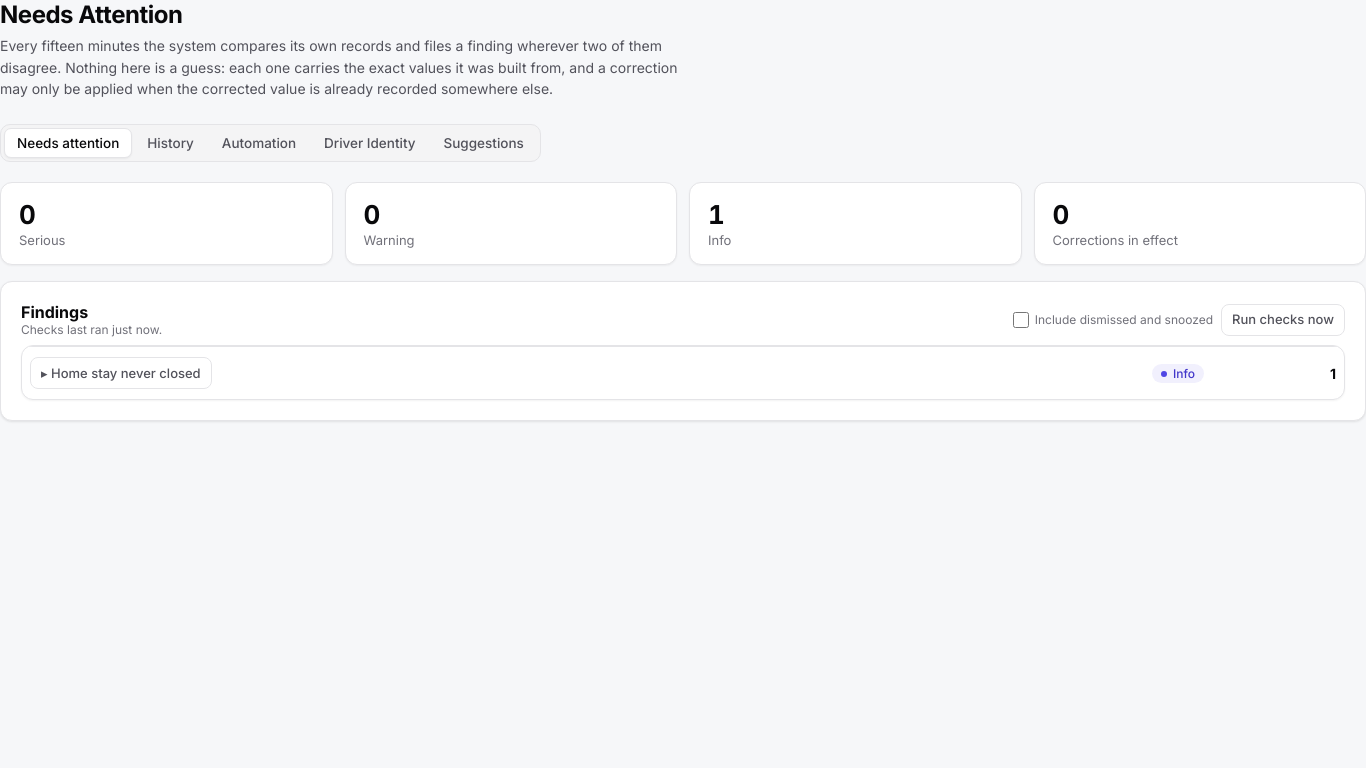
the drawer shows the evidence before the buttons › the proposed change is explicit before and after
This screenshot has width=1366, height=768.
Click the button "▸ Home stay never closed".
click(121, 373)  # box [30,357,212,389]
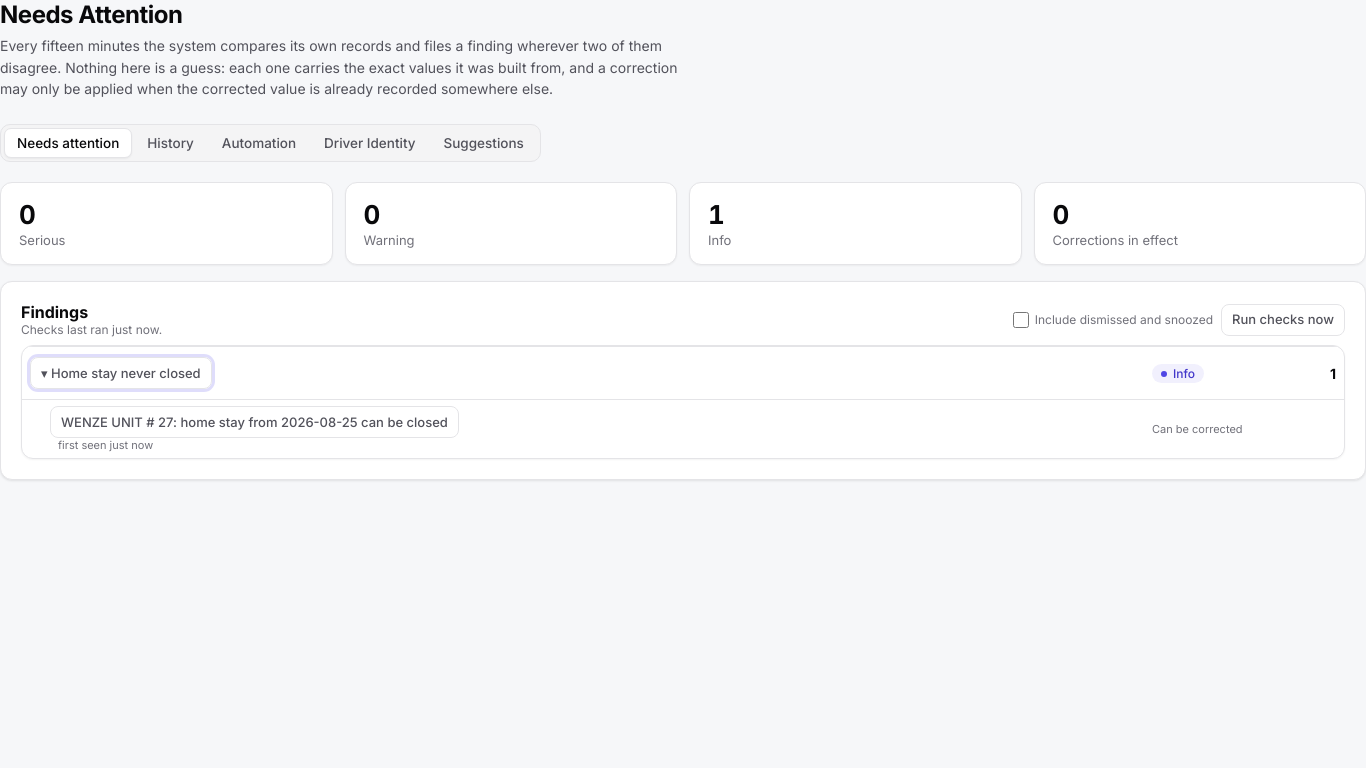
Click the button "WENZE UNIT # 27: home stay from 2026-08-25 can be closed".
click(254, 422)  # box [50,406,459,438]
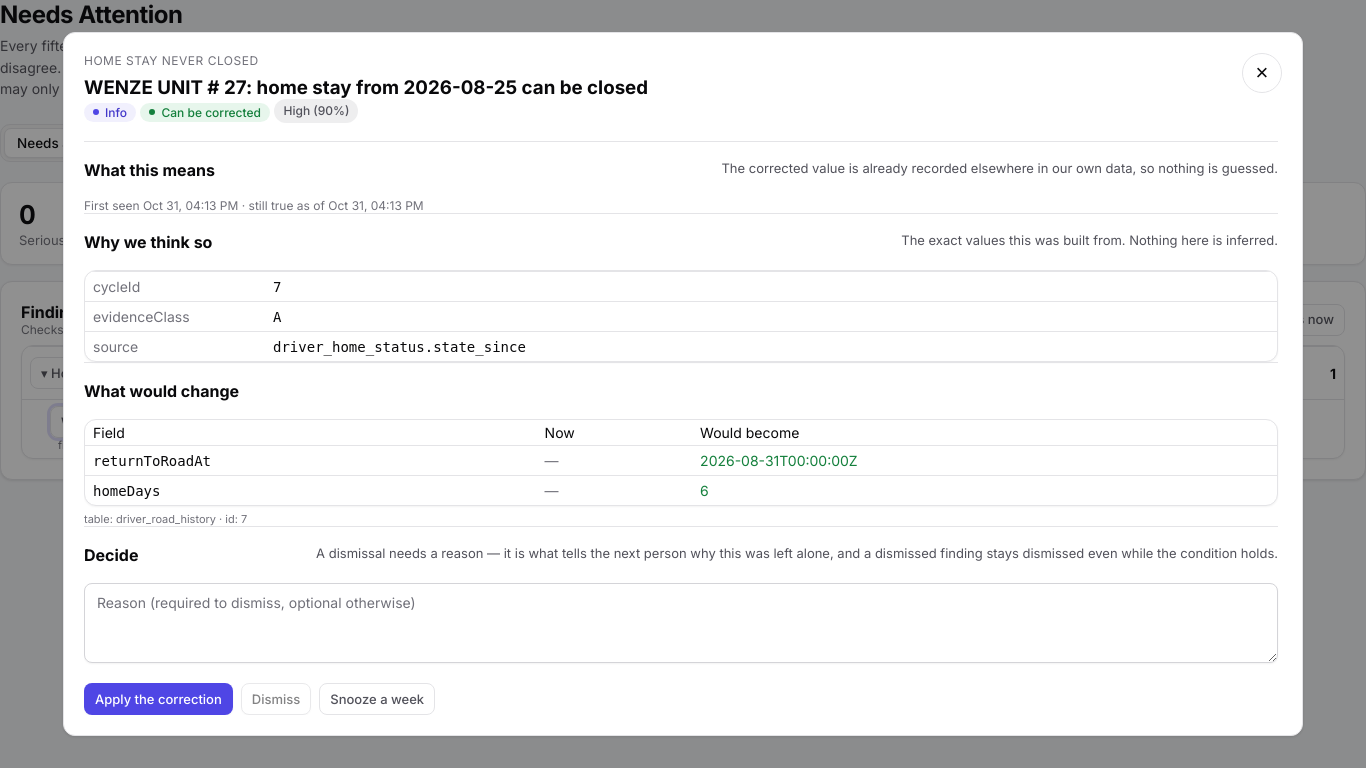
Expected: the heading "Why we think so" is shown, [84,232,212,252]
Expected: the text "Nothing here is inferred" is shown, [901,232,1278,248]
Expected: the text "returnToRoadAt" is shown, [93,453,211,469]
